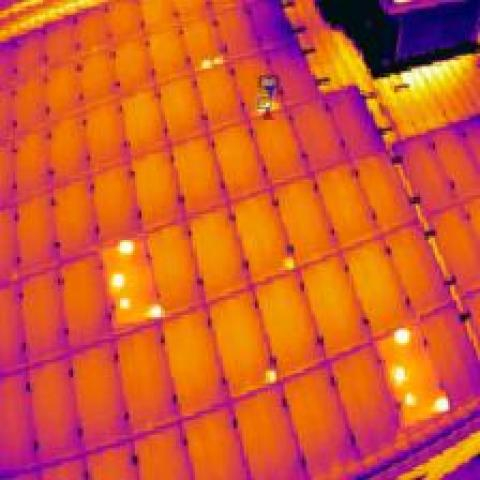fault: (135, 300, 169, 324), (426, 390, 454, 416), (388, 324, 416, 347), (114, 236, 139, 259), (107, 268, 129, 293), (388, 362, 409, 388), (401, 388, 420, 411), (262, 364, 278, 386), (278, 253, 296, 272), (116, 293, 133, 313), (197, 56, 212, 70), (209, 54, 226, 66)
